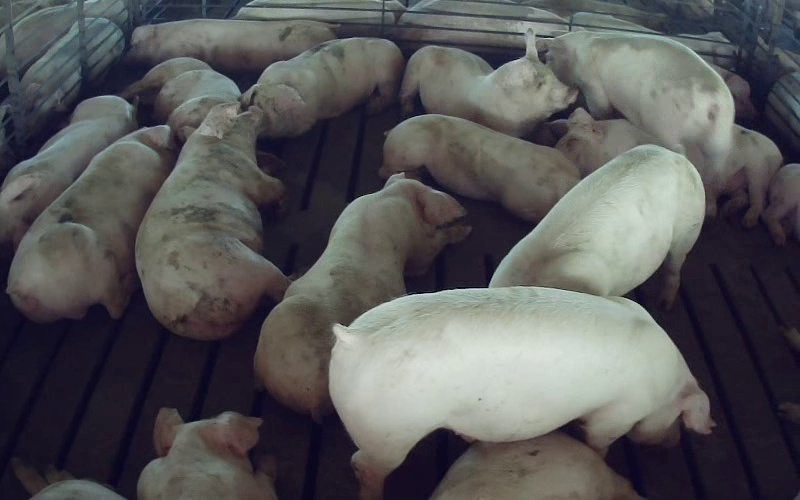pig: (254, 173, 470, 418), (539, 31, 734, 214), (136, 103, 287, 339), (490, 145, 704, 307), (7, 126, 176, 322), (379, 114, 580, 221), (400, 29, 576, 145), (0, 95, 135, 246), (241, 38, 404, 137), (127, 19, 334, 72), (123, 57, 239, 141)
